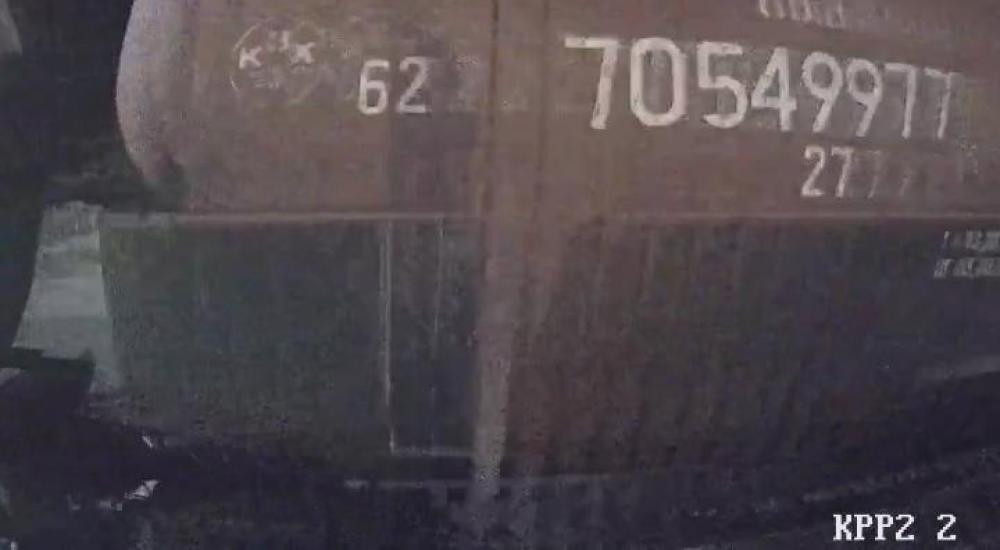Wagon-number: (562, 30, 956, 148)
